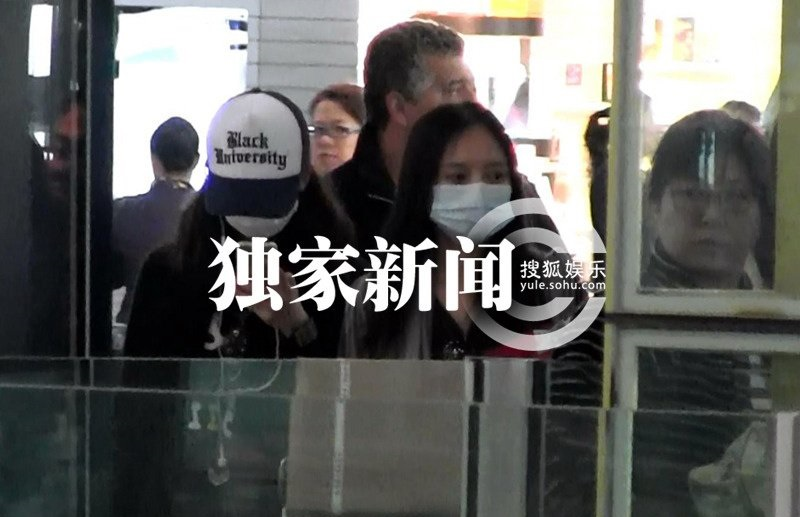face: (663, 161, 752, 270), (422, 56, 483, 135), (309, 102, 359, 171)
face_mask: (430, 134, 514, 233)
